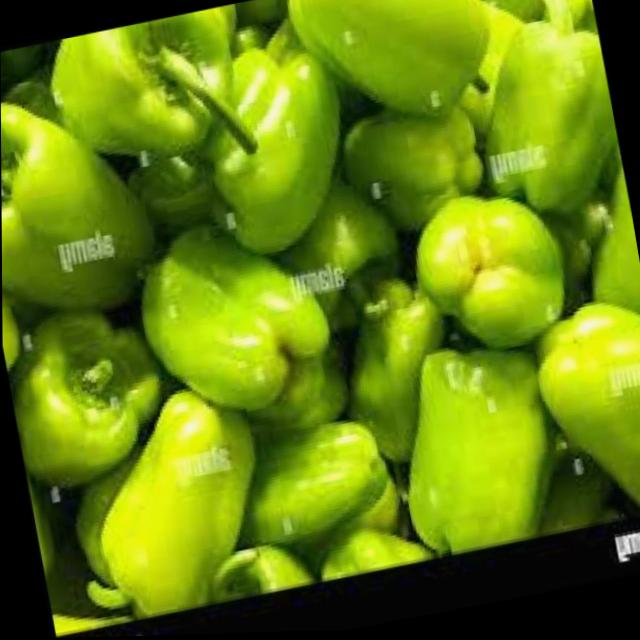Capsicum: (129, 219, 365, 444), (57, 385, 277, 624), (182, 34, 362, 271), (383, 338, 572, 562), (0, 78, 164, 324), (38, 5, 259, 176), (2, 295, 177, 498), (405, 181, 577, 371), (288, 0, 510, 142), (475, 29, 629, 225), (233, 410, 409, 565), (527, 297, 640, 538), (337, 270, 464, 474)
